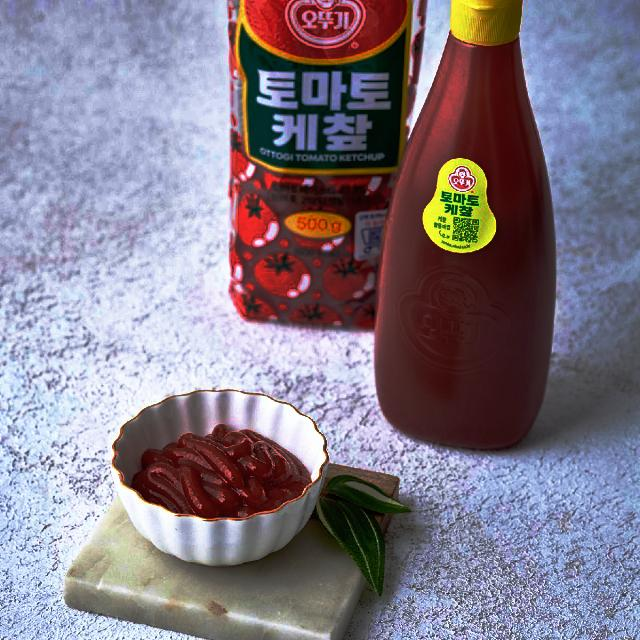ketchup: (371, 1, 562, 449), (132, 419, 308, 518)
